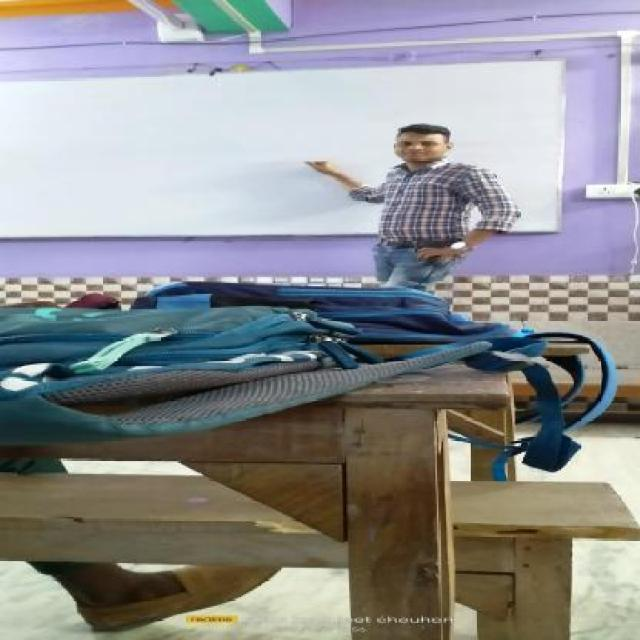backpack: (0, 298, 382, 449)
